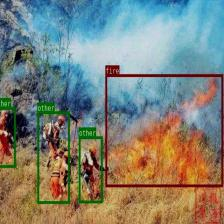fire: (105, 74, 223, 186)
